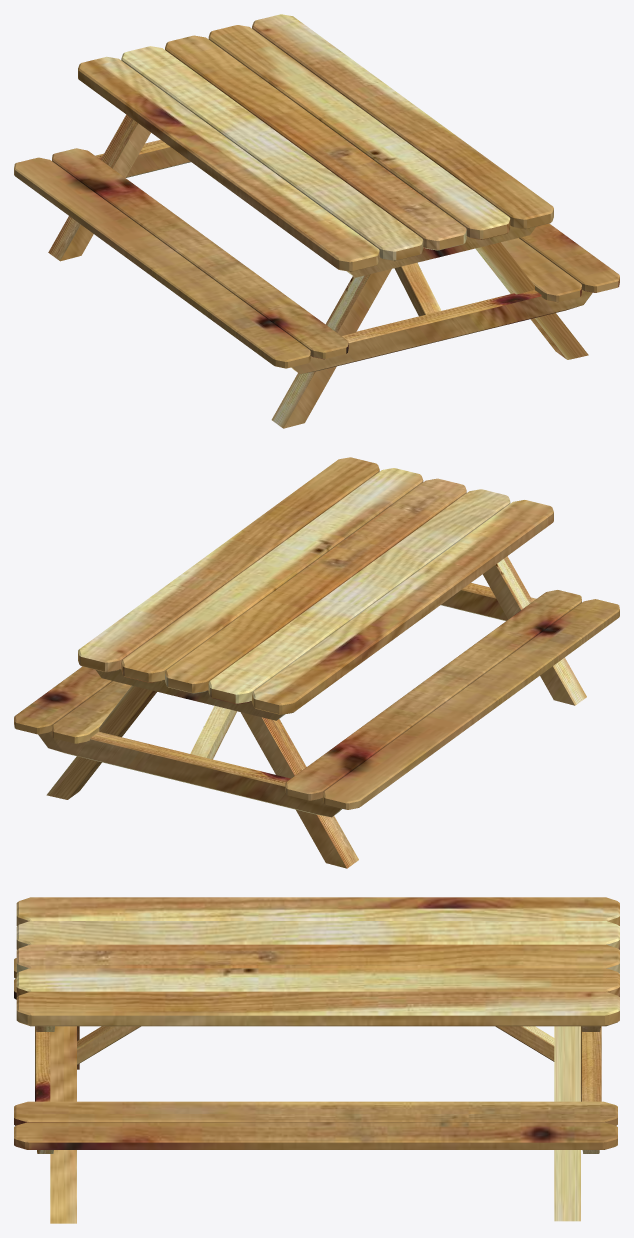
Rendered from Picnic table.fbx.
3 views of the same model, one above another, from view 1: azimuth 30°, elevation 25°; view 2: azimuth 150°, elevation 25°; view 3: azimuth 270°, elevation 25° (orthographic). The views are drawn at different scales.
Parts seen in each view (by area): view 1: Picnic table, Legs; view 2: Picnic table, Legs; view 3: Picnic table, Legs.
Part boxes in pixels (x1,y1,x2,y2): Picnic table: (14, 14, 619, 368); Legs: (48, 114, 592, 428); Picnic table: (14, 457, 619, 809); Legs: (38, 556, 586, 868); Picnic table: (14, 897, 619, 1149); Legs: (35, 1026, 601, 1223).
Size of the model in its own units: 140 by 64.86 by 192.
Materials: 2 (2 with a texture image).
